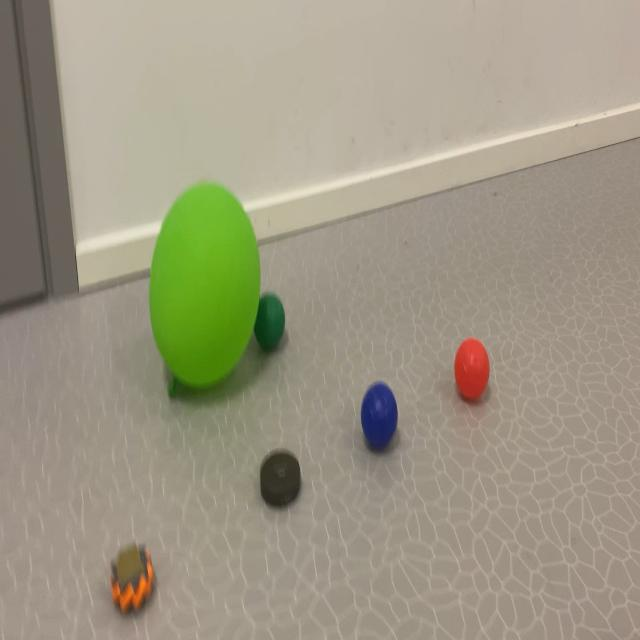7: (440, 314, 512, 448)
blue ball: (246, 264, 526, 457)
green ball: (353, 364, 430, 490)
red ball: (248, 264, 300, 386)
